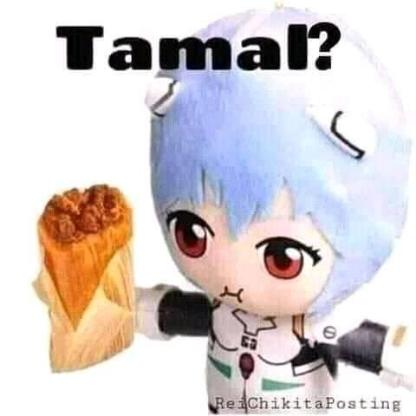rei-plush: (127, 7, 415, 415)
